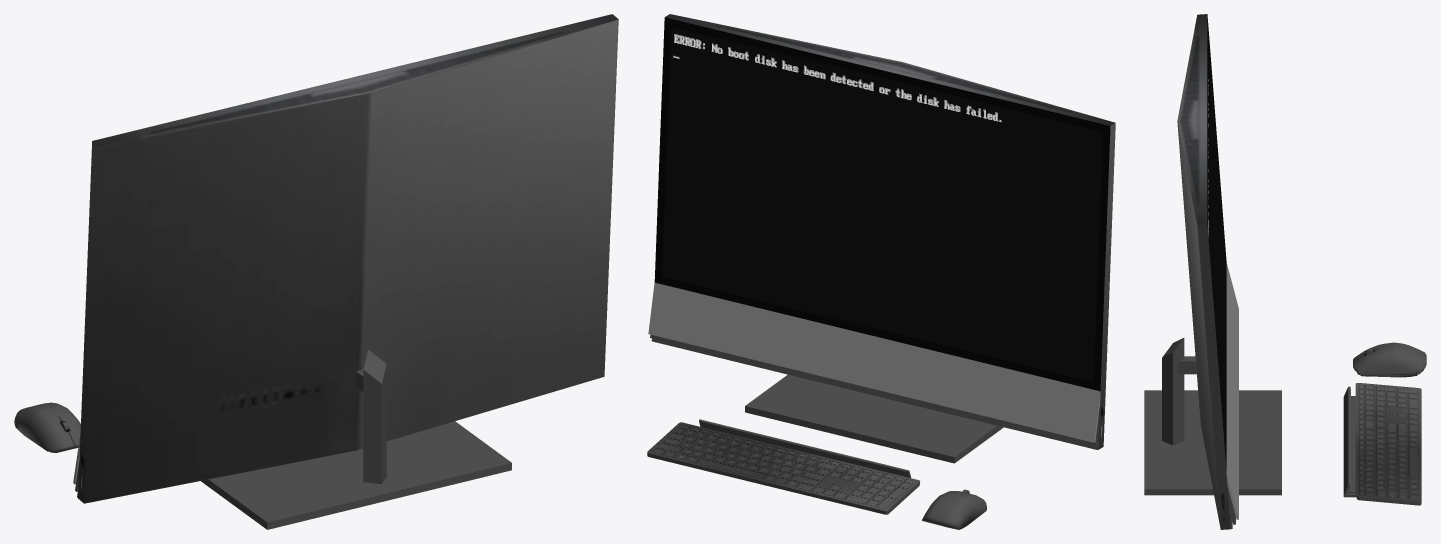
File: computer-all-in-one.glb
The picture shows the model from 3 angles, left to right: view 1: azimuth 30°, elevation 25°; view 2: azimuth 150°, elevation 25°; view 3: azimuth 270°, elevation 25°; orthographic projection. The views are drawn at different scales.
Visible parts, largest first — view 1: Object_4, Object_3, Object_8; view 2: Object_5, Object_9, Object_3, Object_2, Object_6, Object_4, Object_8, Object_7; view 3: Object_3, Object_4, Object_6, Object_5, Object_9, Object_8, Object_7, Object_2.
Part boxes in pixels (x1,y1,x2,y2): Object_4: (78,14,618,503); Object_3: (75,350,511,529); Object_8: (14,402,80,452); Object_5: (662,27,1102,381); Object_9: (648,283,1100,442); Object_3: (650,334,1099,463); Object_2: (654,17,1110,391); Object_6: (647,422,920,514); Object_4: (665,14,1115,449); Object_8: (922,491,986,529); Object_7: (699,419,911,477); Object_3: (1144,338,1281,528); Object_4: (1177,14,1230,529); Object_6: (1355,383,1421,505); Object_5: (1208,26,1226,462); Object_9: (1226,264,1238,519); Object_8: (1353,342,1426,377); Object_7: (1343,386,1355,497); Object_2: (1207,14,1226,470).
Bounding box in the file's own units: 0.6901 × 0.5 × 0.3914.
7 materials, 4 textured.
